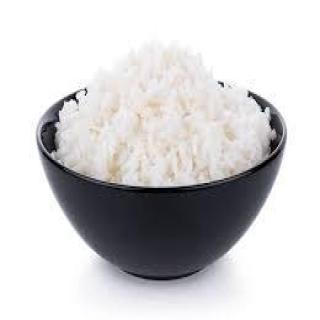Nasi: (49, 37, 277, 186)
